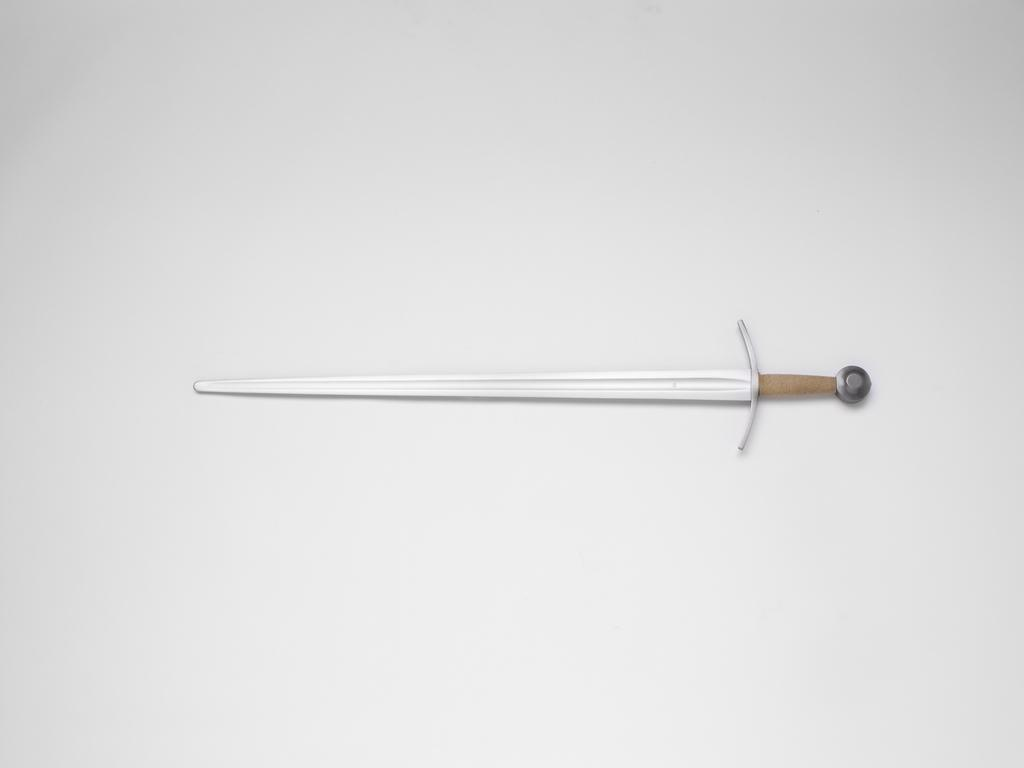Sword: (195, 318, 870, 447)
